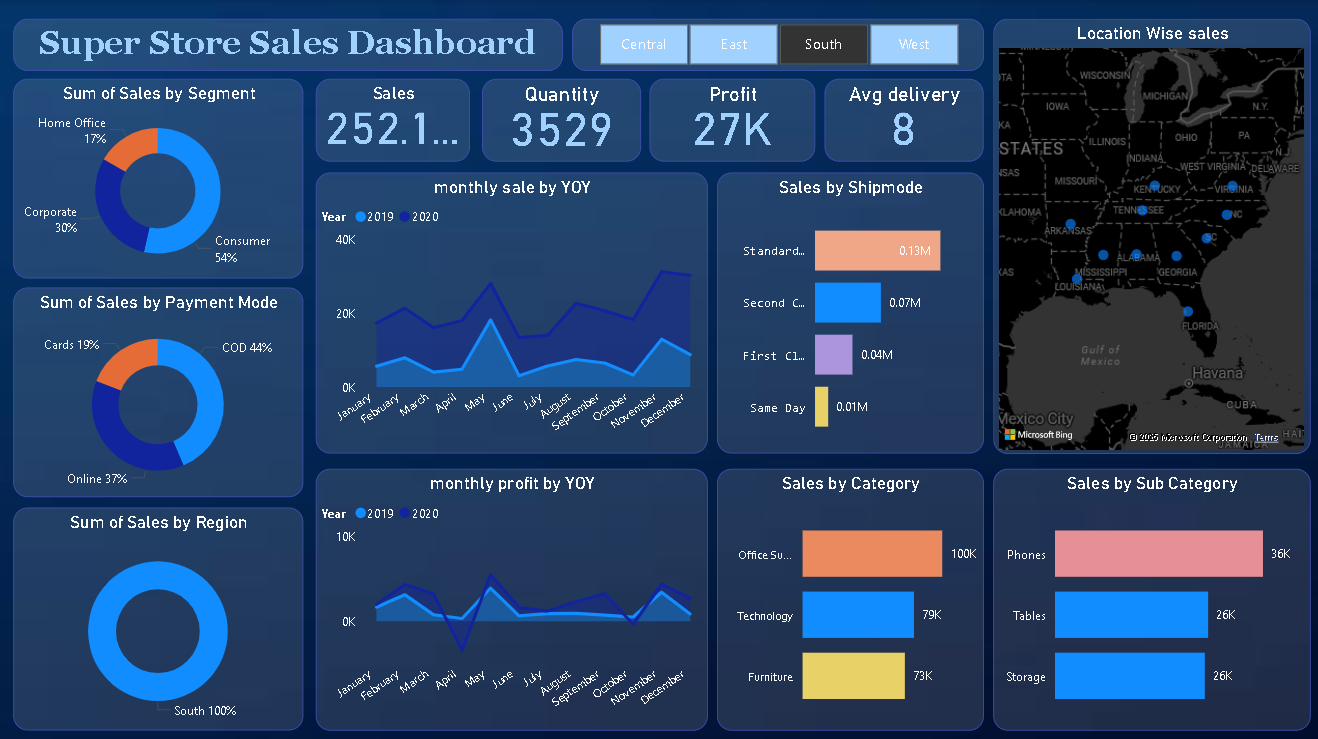

What the dashboard file says about the page in this screenshot:
{"tool":"powerbi","page":{"name":"Page 1","canvas":[1280,720],"ordinal":0},"visuals":[{"type":"clusteredBarChart","title":"Sales by Category","fields":{"Category":["SuperStore Sales DataSet xlsx - Sheet1.Category"],"Y":["Sum(SuperStore Sales DataSet xlsx - Sheet1.Sales)"]},"box":[695,452.5,257.5,252.5],"z":0},{"type":"clusteredBarChart","title":"Sales by Sub Category","fields":{"Y":["Sum(SuperStore Sales DataSet xlsx - Sheet1.Sales)"],"Category":["SuperStore Sales DataSet xlsx - Sheet1.Sub-Category"]},"box":[961.2,452.5,306.2,252.5],"z":1000},{"type":"clusteredBarChart","title":"Sales by Shipmode","fields":{"Category":["SuperStore Sales DataSet xlsx - Sheet1.Ship Mode"],"Y":["Sum(SuperStore Sales DataSet xlsx - Sheet1.Sales)"]},"box":[695,166.2,257.5,271.2],"z":2000},{"type":"stackedAreaChart","title":"monthly sale by YOY","fields":{"Y":["Sum(SuperStore Sales DataSet xlsx - Sheet1.Sales)"],"Category":["SuperStore Sales DataSet xlsx - Sheet1.Order Date.Variation.Date Hierarchy.Month"],"Series":["SuperStore Sales DataSet xlsx - Sheet1.Order Date.Variation.Date Hierarchy.Year"]},"box":[307.5,166.2,378.8,271.2],"z":3000},{"type":"stackedAreaChart","title":"monthly profit by YOY","fields":{"Category":["SuperStore Sales DataSet xlsx - Sheet1.Order Date.Variation.Date Hierarchy.Month"],"Series":["SuperStore Sales DataSet xlsx - Sheet1.Order Date.Variation.Date Hierarchy.Year"],"Y":["Sum(SuperStore Sales DataSet xlsx - Sheet1.Profit)"]},"box":[307.5,452.5,378.8,252.5],"z":4000},{"type":"donutChart","fields":{"Category":["SuperStore Sales DataSet xlsx - Sheet1.Segment"],"Y":["Sum(SuperStore Sales DataSet xlsx - Sheet1.Sales)"]},"box":[16.2,76.2,280,192.5],"z":6000},{"type":"donutChart","fields":{"Category":["SuperStore Sales DataSet xlsx - Sheet1.Payment Mode"],"Y":["Sum(SuperStore Sales DataSet xlsx - Sheet1.Sales)"]},"box":[16.2,277.5,280,202.5],"z":7000},{"type":"slicer","fields":{"Values":["SuperStore Sales DataSet xlsx - Sheet1.Region"]},"box":[555,17.5,397.5,50],"z":8000},{"type":"textbox","box":[16.2,17.5,530,50],"z":9000},{"type":"card","title":"Sales ","fields":{"Values":["Sum(SuperStore Sales DataSet xlsx - Sheet1.Sales)"]},"box":[307.5,76.2,148.8,80],"z":10000},{"type":"card","title":"Profit","fields":{"Values":["Sum(SuperStore Sales DataSet xlsx - Sheet1.Profit)"]},"box":[630,76.2,160,80],"z":11000},{"type":"card","title":"Quantity","fields":{"Values":["Sum(SuperStore Sales DataSet xlsx - Sheet1.Quantity)"]},"box":[467.5,76.2,153.8,80],"z":12000},{"type":"card","title":"Avg delivery","fields":{"Values":["Avg(SuperStore Sales DataSet xlsx - Sheet1.AvgDelivery)"]},"box":[798.8,76.2,153.8,80],"z":13000},{"type":"donutChart","fields":{"Y":["Sum(SuperStore Sales DataSet xlsx - Sheet1.Sales)"],"Category":["SuperStore Sales DataSet xlsx - Sheet1.Region"]},"box":[16.2,490,280,215],"z":14000},{"type":"map","title":"Location Wise sales","fields":{"Category":["SuperStore Sales DataSet xlsx - Sheet1.State"]},"box":[961.5,18.1,306.4,419.8],"z":14001}]}

Visuals, with their boxes in screenshot pixels (x1, y1, x2, y2), scaled from the page's 1280x720 canvas onto the 1318x739 screenshot:
"Sales by Category" clusteredBarChart: <region>716, 464, 981, 724</region>
"Sales by Sub Category" clusteredBarChart: <region>990, 464, 1305, 724</region>
"Sales by Shipmode" clusteredBarChart: <region>716, 171, 981, 449</region>
"monthly sale by YOY" stackedAreaChart: <region>317, 171, 707, 449</region>
"monthly profit by YOY" stackedAreaChart: <region>317, 464, 707, 724</region>
donutChart - SuperStore Sales DataSet xlsx - Sheet1.Segment x Sum(SuperStore Sales DataSet xlsx - Sheet1.Sales): <region>17, 78, 305, 276</region>
donutChart - SuperStore Sales DataSet xlsx - Sheet1.Payment Mode x Sum(SuperStore Sales DataSet xlsx - Sheet1.Sales): <region>17, 285, 305, 493</region>
slicer - SuperStore Sales DataSet xlsx - Sheet1.Region: <region>571, 18, 981, 69</region>
textbox: <region>17, 18, 562, 69</region>
"Sales " card: <region>317, 78, 470, 160</region>
"Profit" card: <region>649, 78, 813, 160</region>
"Quantity" card: <region>481, 78, 640, 160</region>
"Avg delivery" card: <region>823, 78, 981, 160</region>
donutChart - Sum(SuperStore Sales DataSet xlsx - Sheet1.Sales) x SuperStore Sales DataSet xlsx - Sheet1.Region: <region>17, 503, 305, 724</region>
"Location Wise sales" map: <region>990, 19, 1306, 449</region>
